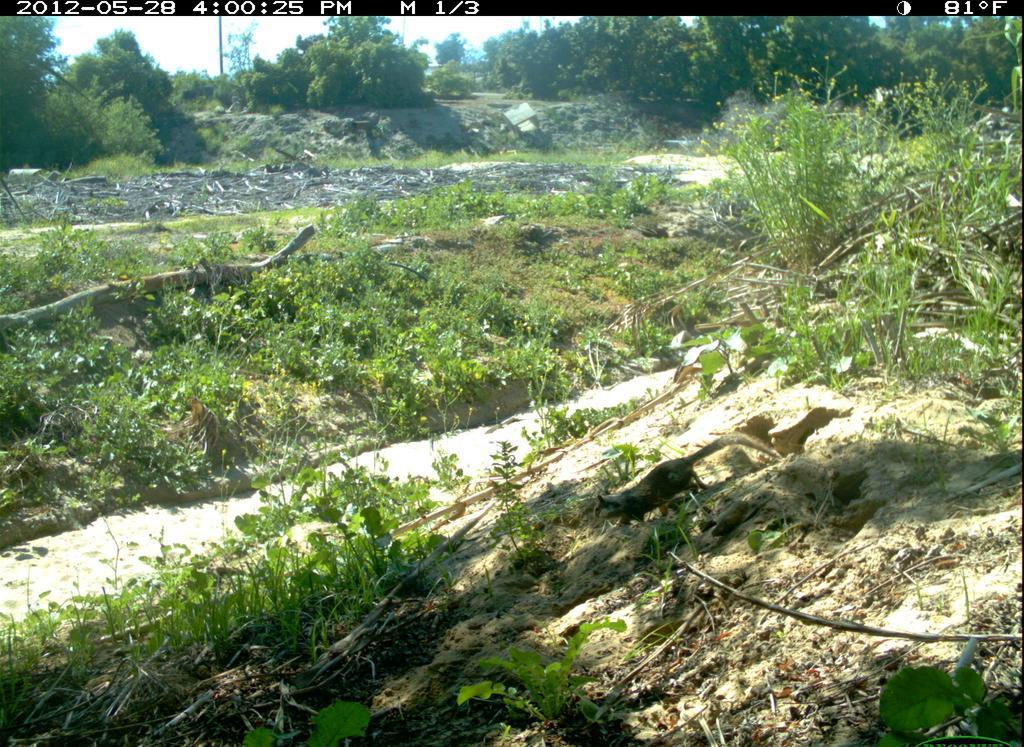squirrel: (583, 425, 789, 541)
